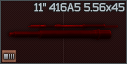HK 416A5 5.56x45 11 inch barrel: (0, 0, 127, 64)
